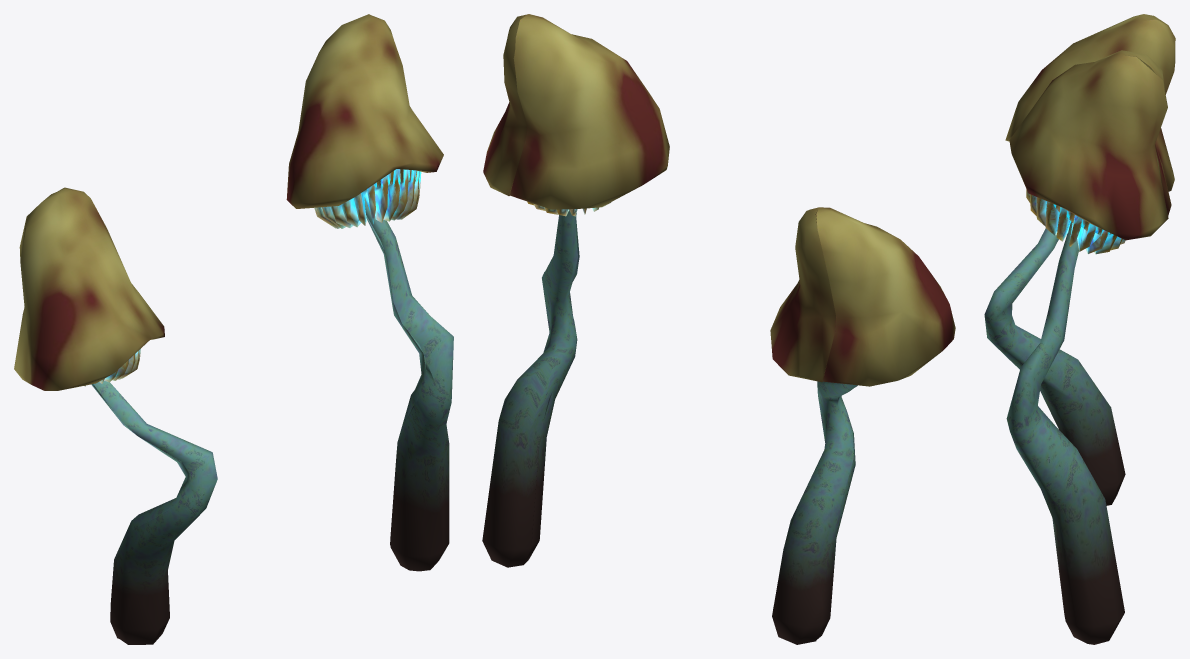
File: Planet_Mushroom01.fbx
The picture shows the model from 3 angles, left to right: view 1: azimuth 30°, elevation 25°; view 2: azimuth 150°, elevation 25°; view 3: azimuth 270°, elevation 25°; orthographic projection. The views are drawn at different scales.
Parts seen in each view (by area): view 1: Planet_Mushroom01; view 2: Planet_Mushroom01; view 3: Planet_Mushroom01.
Part boxes in pixels (box(x1,y1,x2,y2)): Planet_Mushroom01: box(14, 14, 453, 644); Planet_Mushroom01: box(482, 14, 955, 644); Planet_Mushroom01: box(984, 14, 1175, 644).
Bounding box in the file's own units: 0.8058 × 1 × 0.2988.
